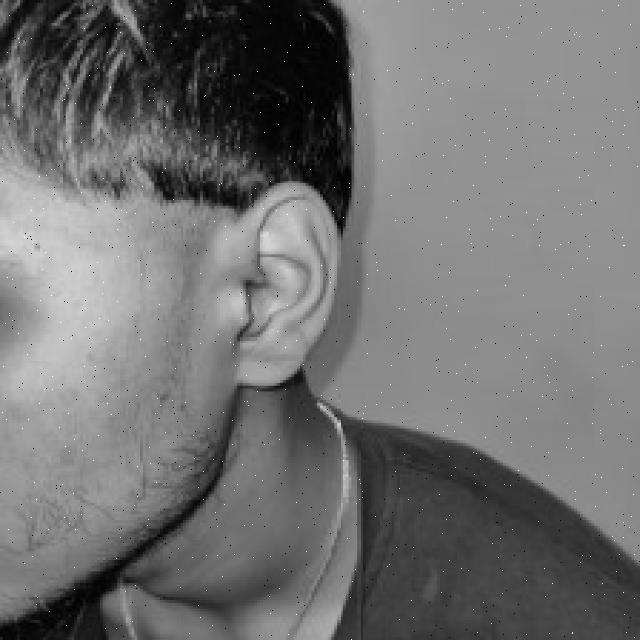ear: (237, 180, 337, 386)
